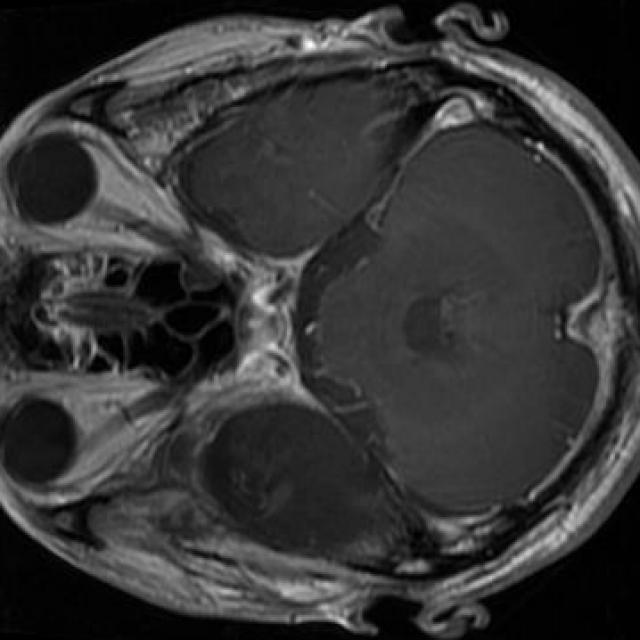glioma: (203, 406, 406, 567)
